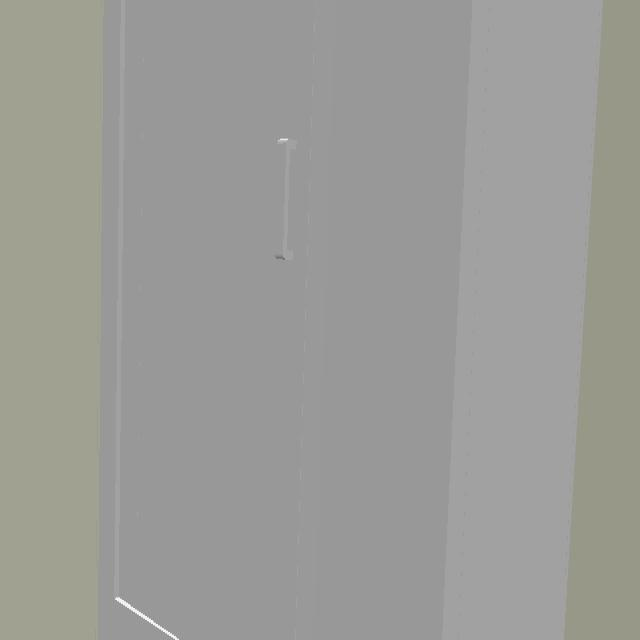shower: (95, 0, 632, 640)
